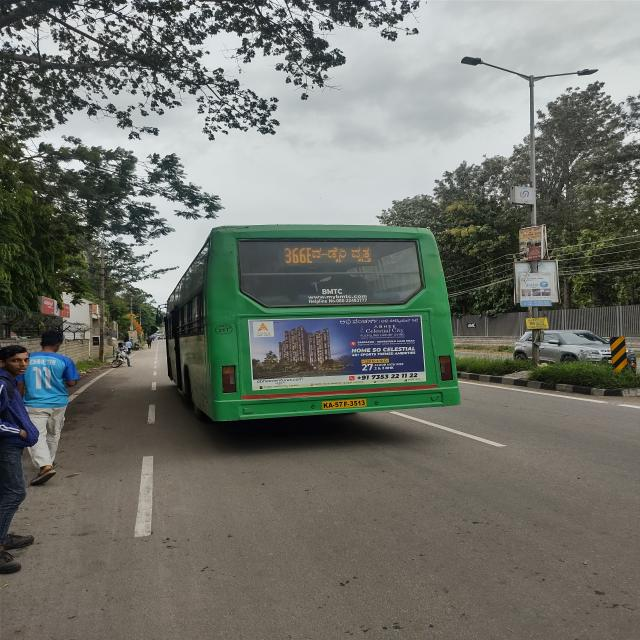bus: (155, 224, 468, 433)
display: (283, 245, 377, 268)
dnumber: (284, 247, 314, 264)
